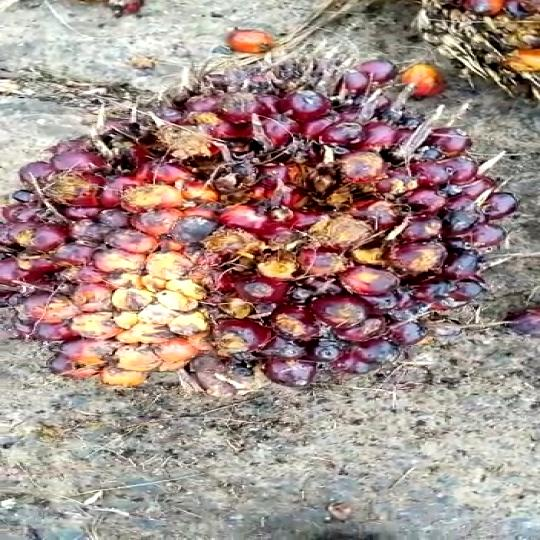masak: (0, 48, 520, 401)
